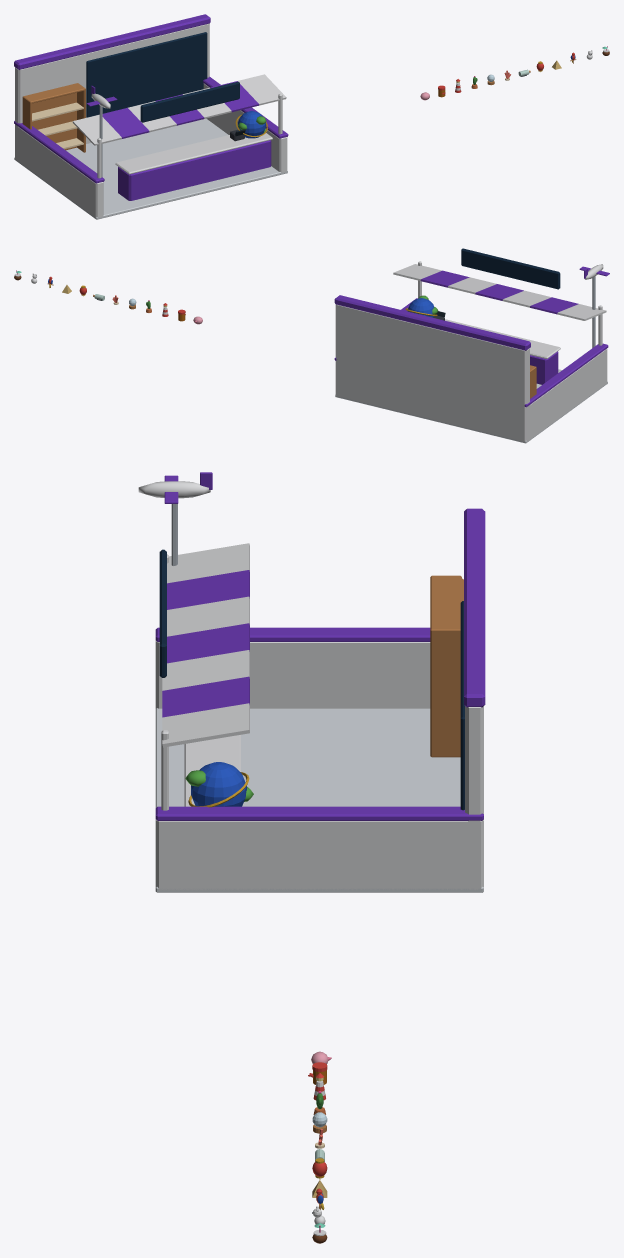
The model's file is skyport-mogul.glb.
3 views of the same model, one above another, from view 1: azimuth 30°, elevation 25°; view 2: azimuth 150°, elevation 25°; view 3: azimuth 270°, elevation 25° (orthographic). The views are drawn at different scales.
Parts seen in each view (by area): view 1: sp_mogul_mesh; view 2: sp_mogul_mesh; view 3: sp_mogul_mesh.
Part boxes in pixels (bbox=[...]): sp_mogul_mesh: bbox=[14, 14, 288, 219]; sp_mogul_mesh: bbox=[334, 248, 609, 443]; sp_mogul_mesh: bbox=[138, 472, 485, 892].
Bounding box in the file's own units: 20.37 × 4.27 × 5.49.
